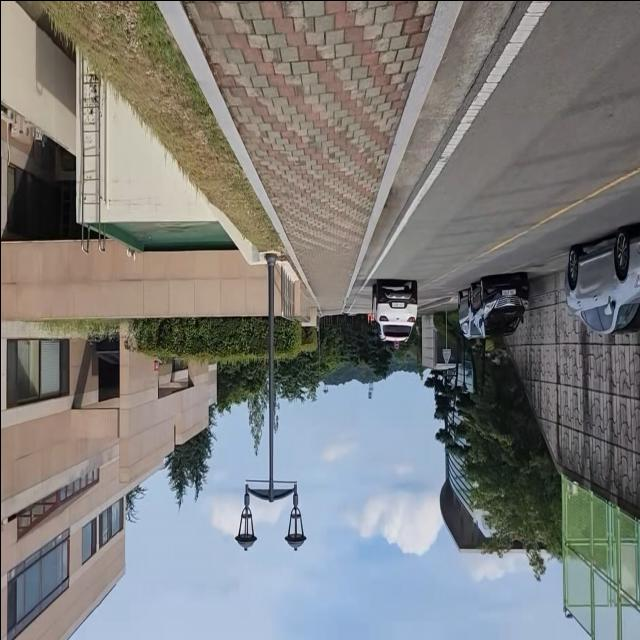obstacle: (232, 251, 305, 555), (561, 223, 640, 336), (451, 263, 532, 344), (366, 273, 421, 350)
road: (341, 0, 640, 309)
sidewalk: (157, 0, 459, 310)
